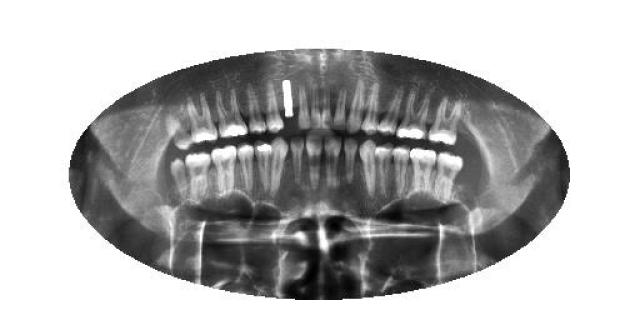Fillings: (185, 93, 220, 145), (395, 88, 431, 138), (216, 88, 249, 138), (408, 146, 437, 202), (212, 142, 238, 202), (254, 140, 274, 194)
Implant: (280, 78, 295, 120)
